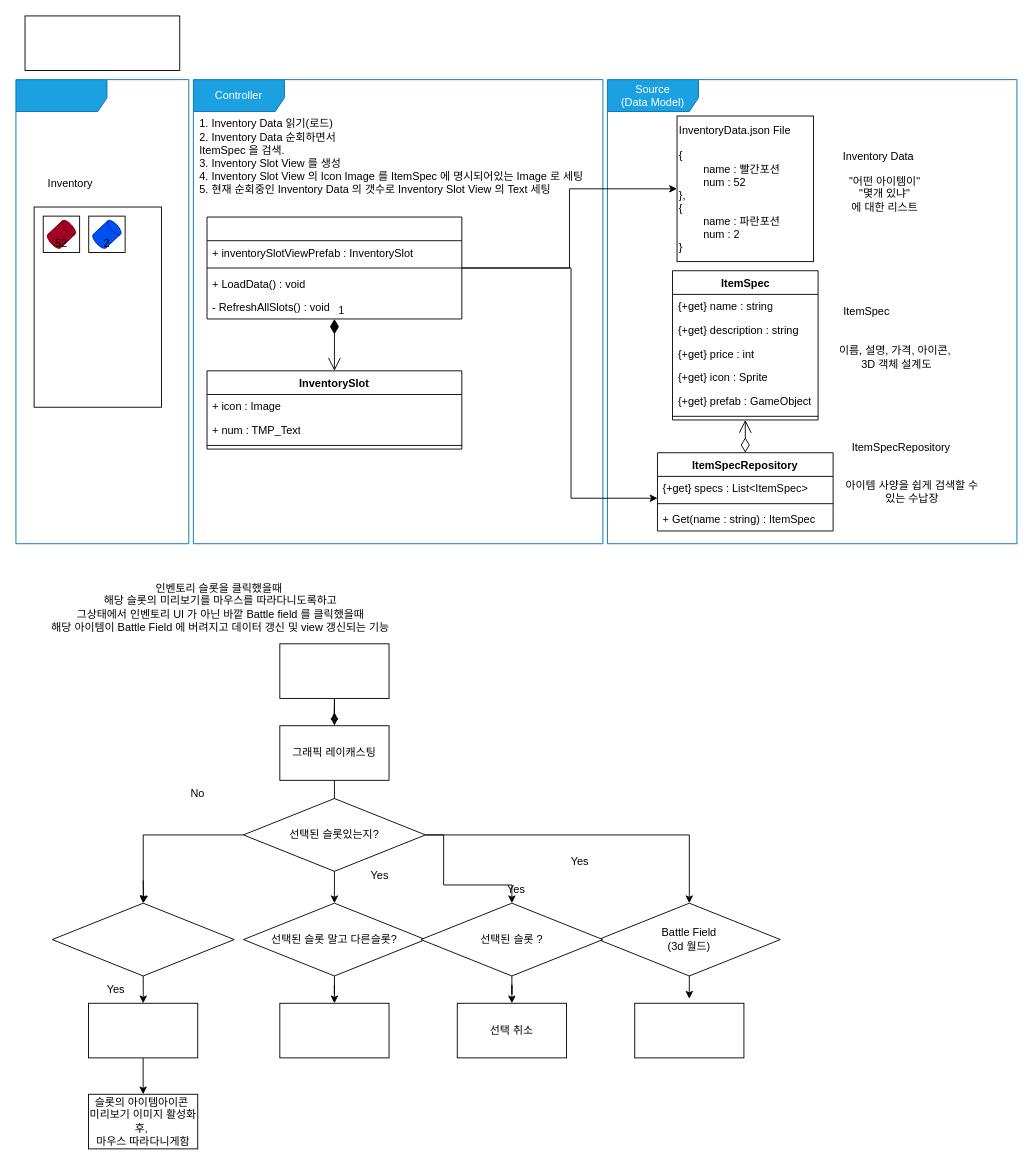
Image size: 1033x1165. Some labels were removed from this diagram. Each missing label, with the box of its shape:
MVC (Model - View - Controller): (24, 15, 180, 71)
UI_Inventory: (206, 216, 462, 319)
View: (15, 79, 189, 544)
슬롯 스왑: (279, 1002, 389, 1058)
슬롯 캐스팅 됐는지?: (51, 902, 234, 976)
왼쪽 클릭: (279, 643, 389, 698)
캐스팅된 슬롯 기억 (선택): (88, 1002, 198, 1058)
현재 선택된 슬롯의 아이템 데이터 삭제 및 3D 월드에 해당 아이템 Prefab으로 생성: (634, 1002, 744, 1058)
